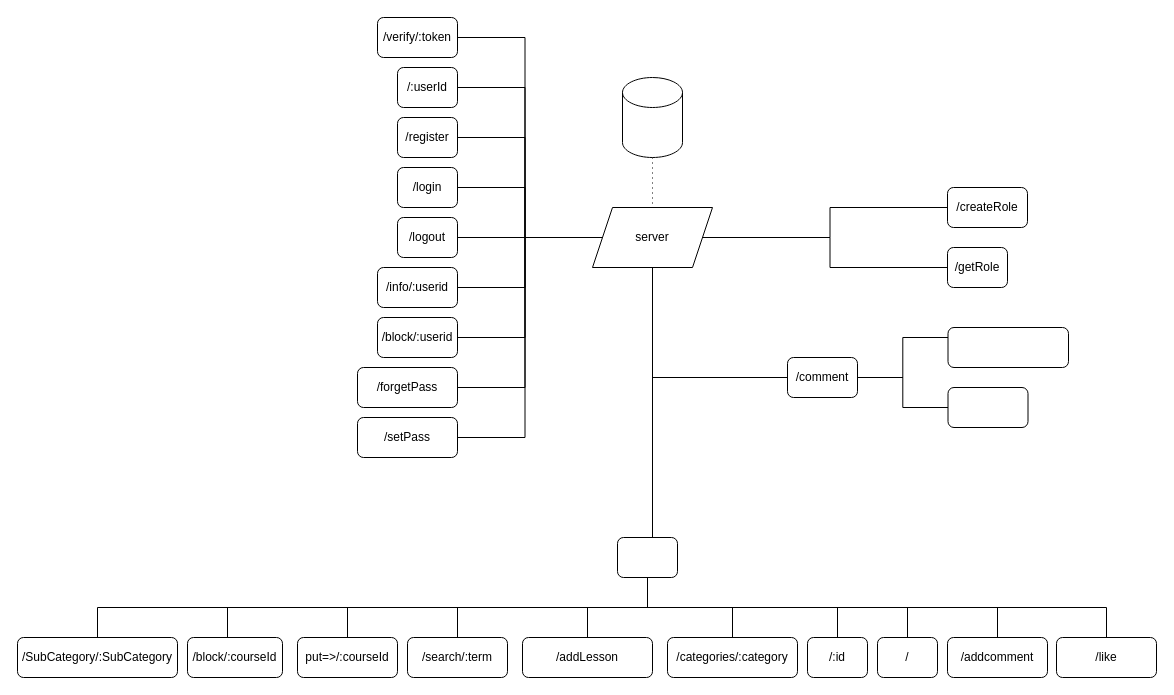
Image size: 1174x695. Some labels were removed from this diagram. Each missing label, with the centre of its shape:
/:commentId: the point at 987,407
/block/:commentId: the point at 1007,347
/coures: the point at 647,557
mongodb: the point at 652,117
